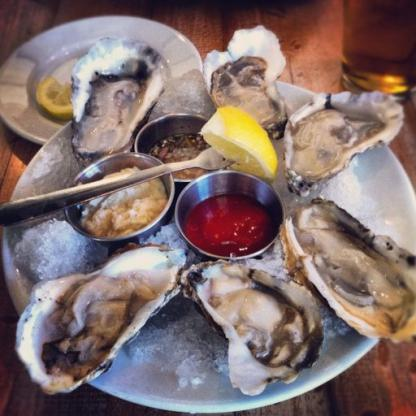oyster: (18, 250, 178, 394), (284, 201, 415, 339), (184, 266, 316, 391), (284, 90, 406, 192), (72, 32, 167, 158)
